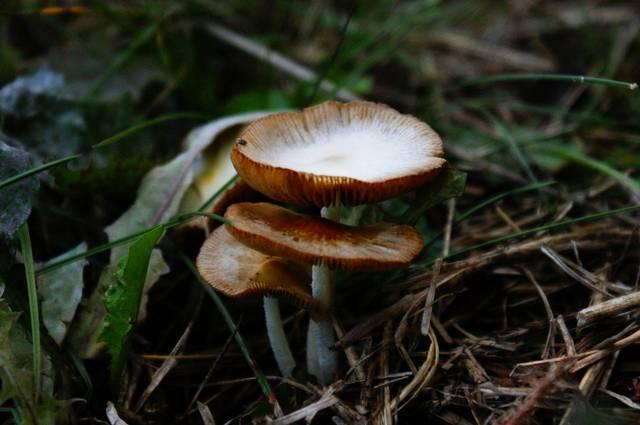Edible Mushroom: (194, 199, 429, 323), (229, 98, 447, 217)
